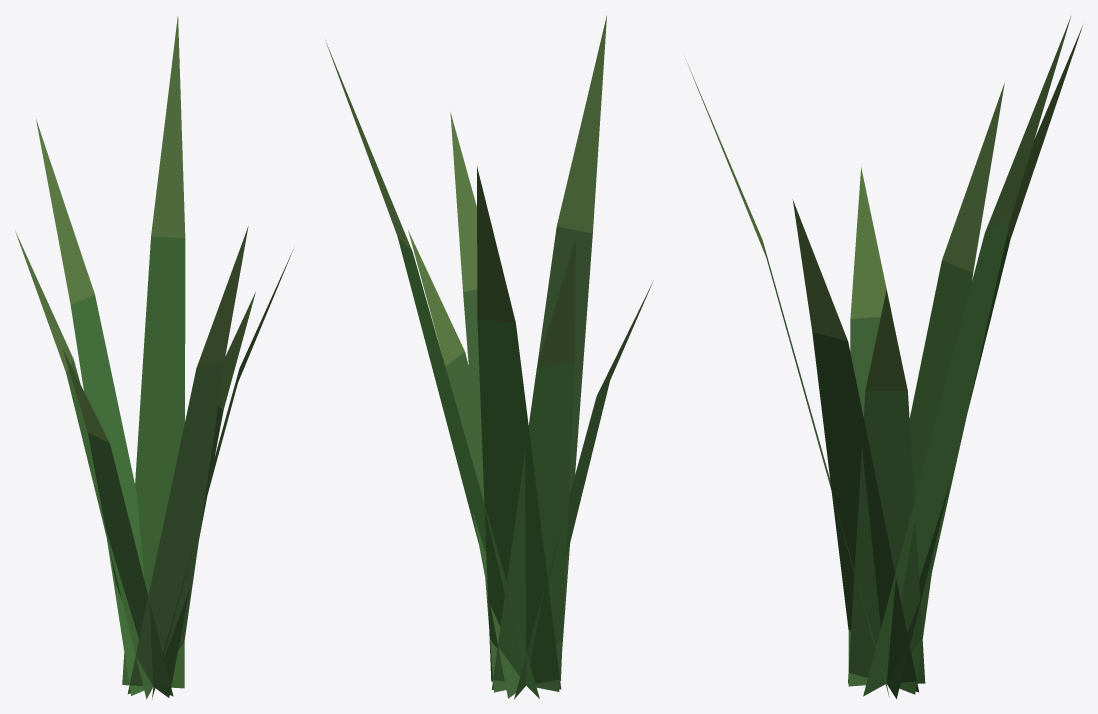
The model's file is high_grass_lod0.glb.
The picture shows the model from 3 angles, left to right: view 1: azimuth 30°, elevation 25°; view 2: azimuth 150°, elevation 25°; view 3: azimuth 270°, elevation 25°; orthographic projection. The views are drawn at different scales.
Parts seen in each view (by area): view 1: high_grass_lod0; view 2: high_grass_lod0; view 3: high_grass_lod0.
Part boxes in pixels (x1=…): high_grass_lod0: x1=15, y1=16, x2=293, y2=699; high_grass_lod0: x1=326, y1=15, x2=653, y2=699; high_grass_lod0: x1=686, y1=16, x2=1082, y2=698.
Bounding box in the file's own units: 0.3765 × 1.04 × 0.5177.
